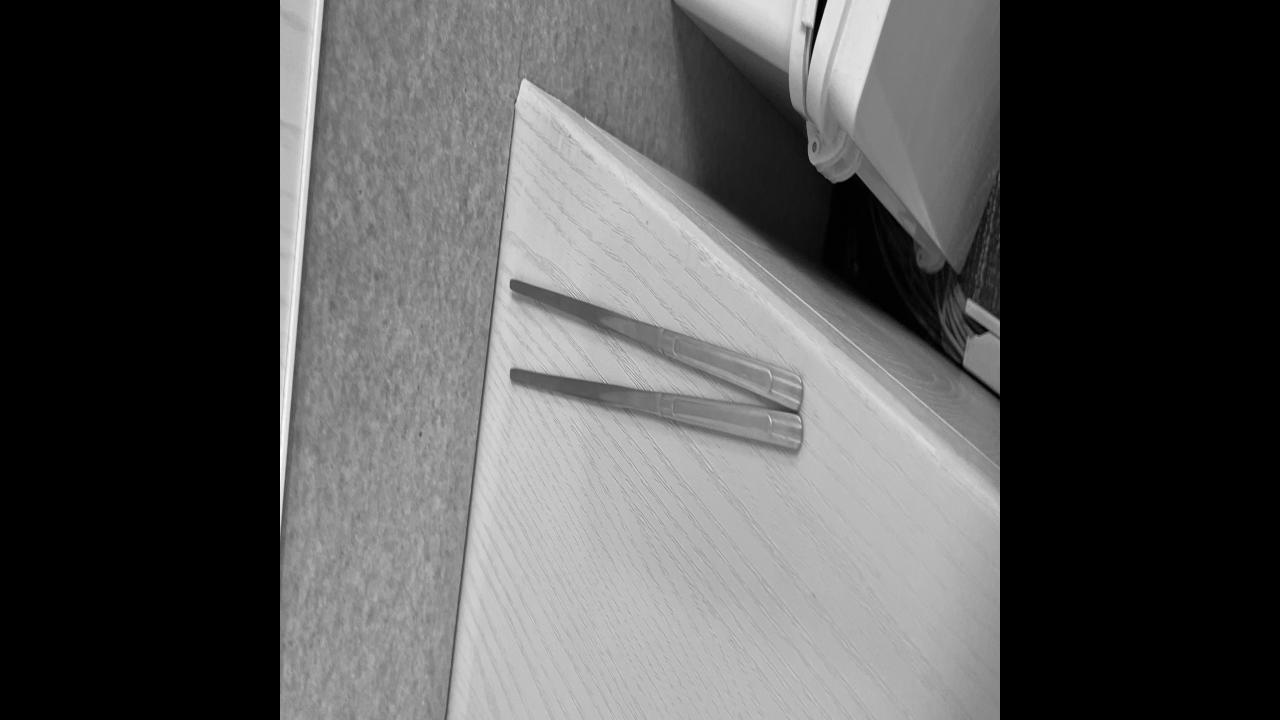chopstick: (511, 276, 802, 448)
